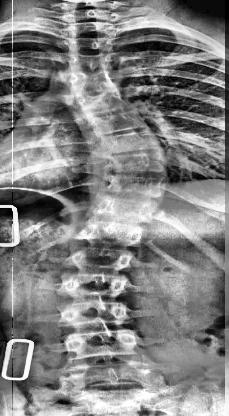Vertebrae: (62, 326, 146, 358), (100, 174, 176, 206), (54, 271, 134, 301), (57, 296, 129, 326), (76, 218, 142, 249), (64, 245, 132, 274), (87, 198, 157, 226), (98, 153, 176, 177), (88, 110, 152, 136), (70, 92, 142, 114), (64, 67, 124, 91), (98, 132, 162, 154), (63, 51, 124, 71), (62, 17, 116, 35), (67, 34, 117, 52)
